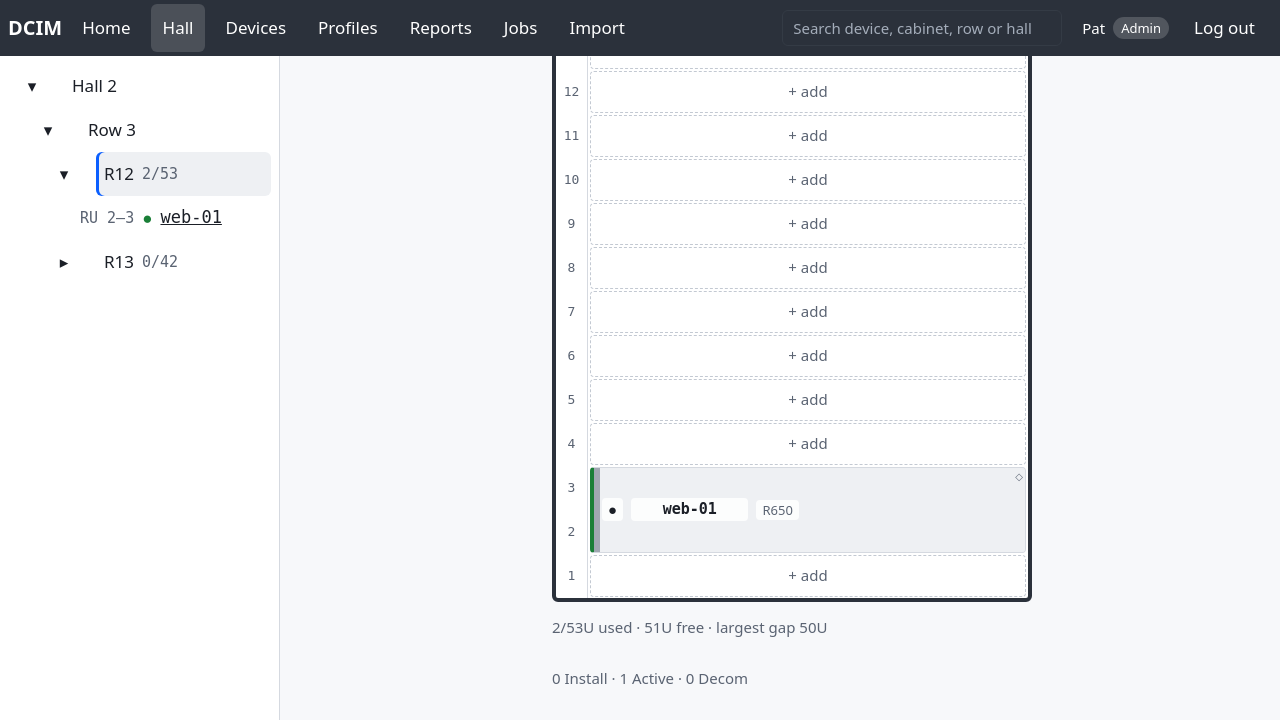
Scenario: profile required for placement › shows friendly copy for 422 profile_not_published with missing[]
(page scrolled)
Click the button with test id "slot-front-1" at (808, 576), box x1=590 y1=555 x2=1026 y2=597
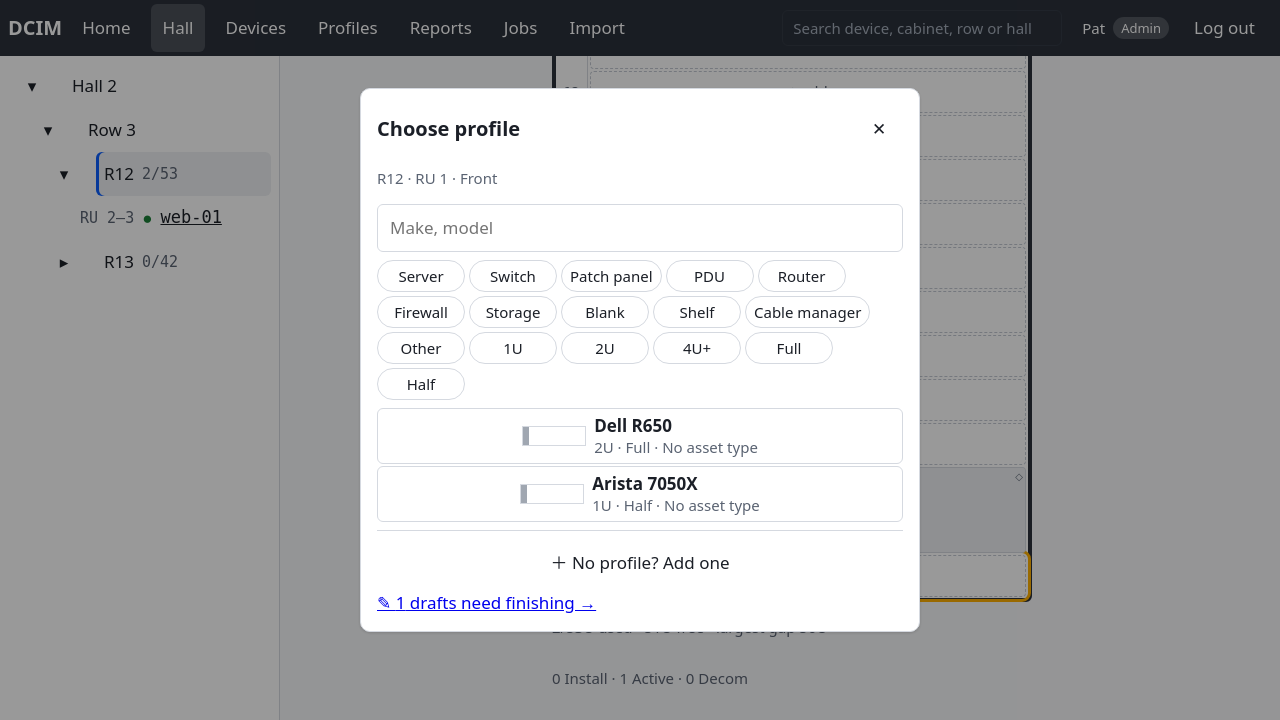
Click the button with aria-label "Arista 7050X, 1U · Half" at (640, 494), box x1=377 y1=466 x2=903 y2=522
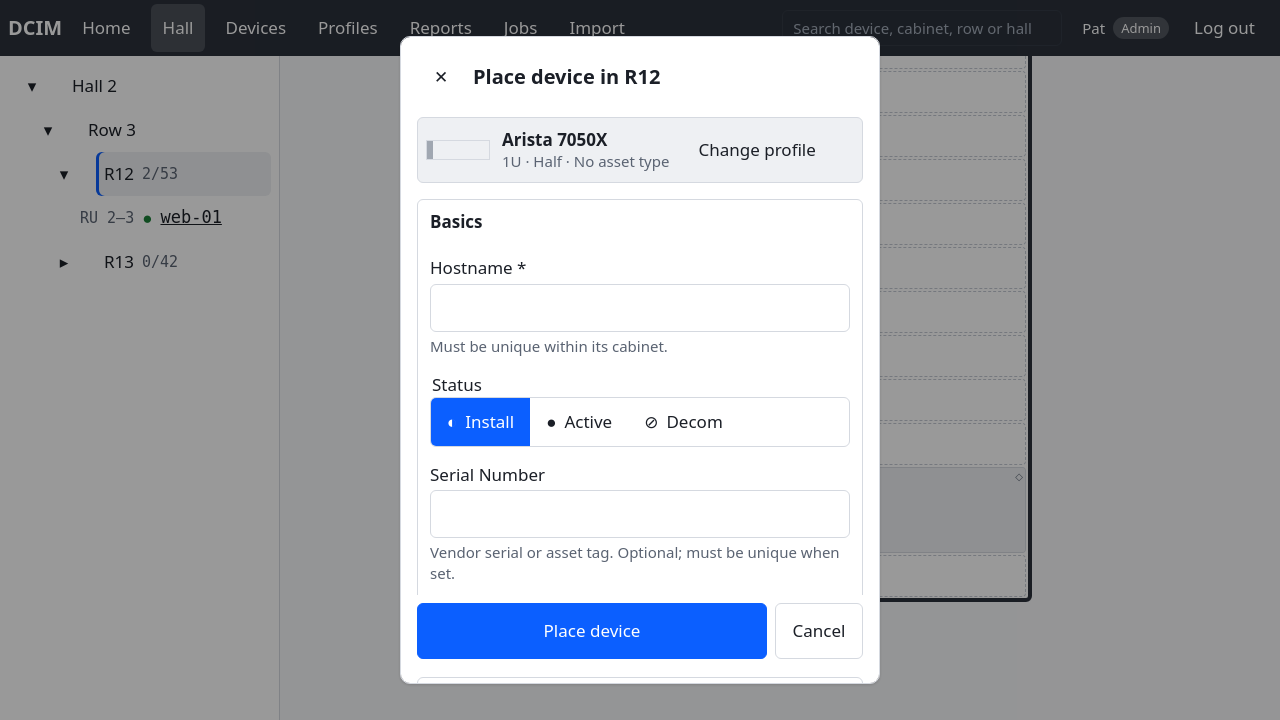
Type "sw-09" into the field labelled "Hostname" at (640, 308), box x1=430 y1=284 x2=850 y2=332
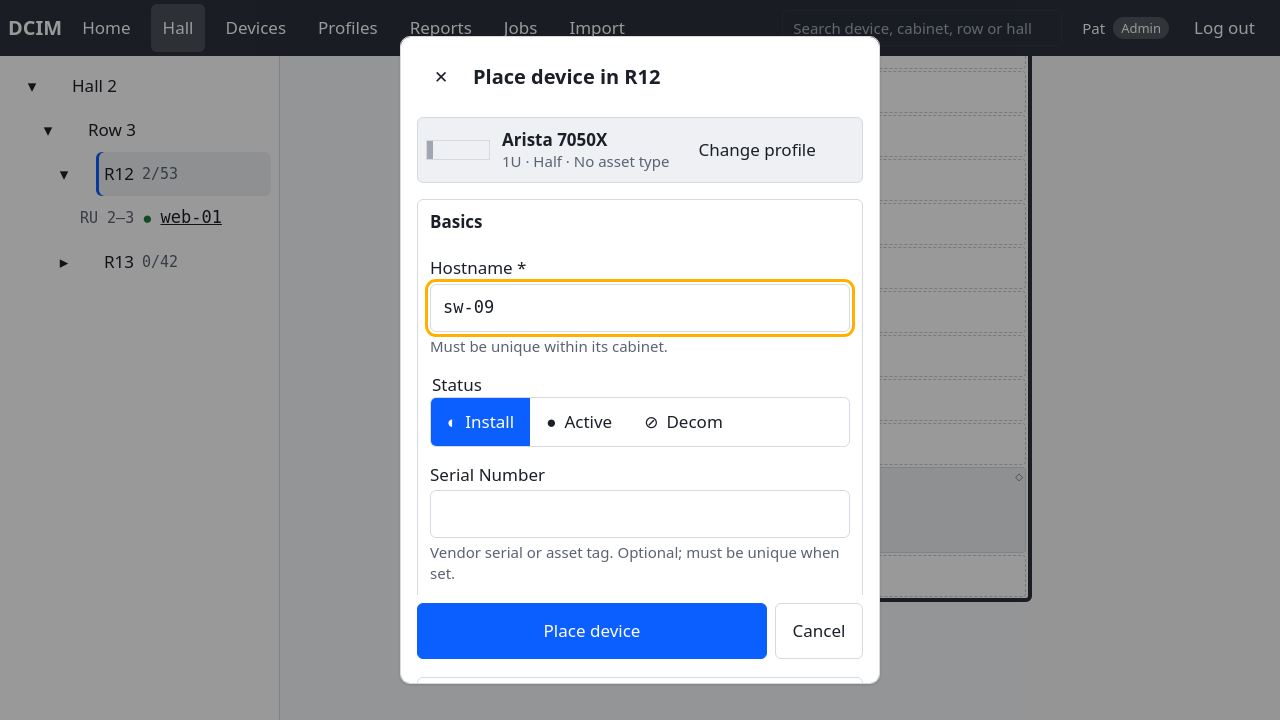
Click the button "Place device" at (592, 631), box x1=417 y1=603 x2=767 y2=659
(page scrolled)
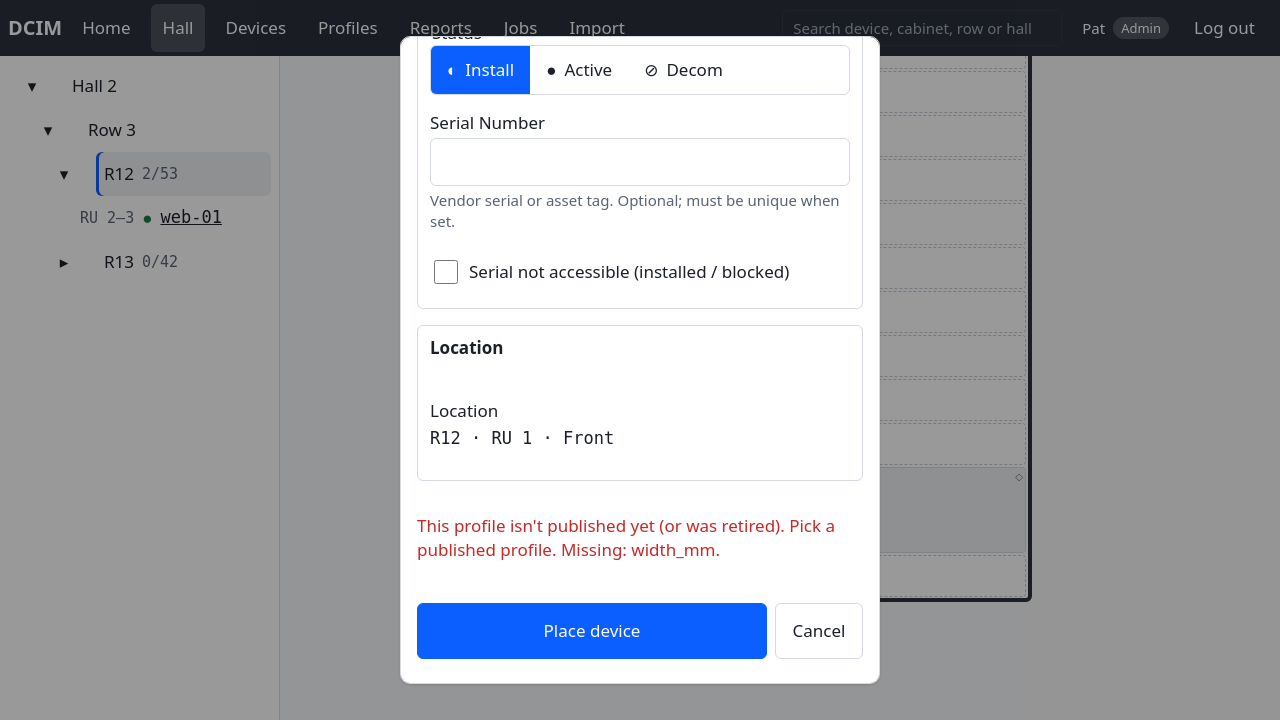
expect the message shows "This profile isn't published yet (or was retired). Pick a published profile. Missing: width_mm.": met, box x1=417 y1=514 x2=835 y2=561
